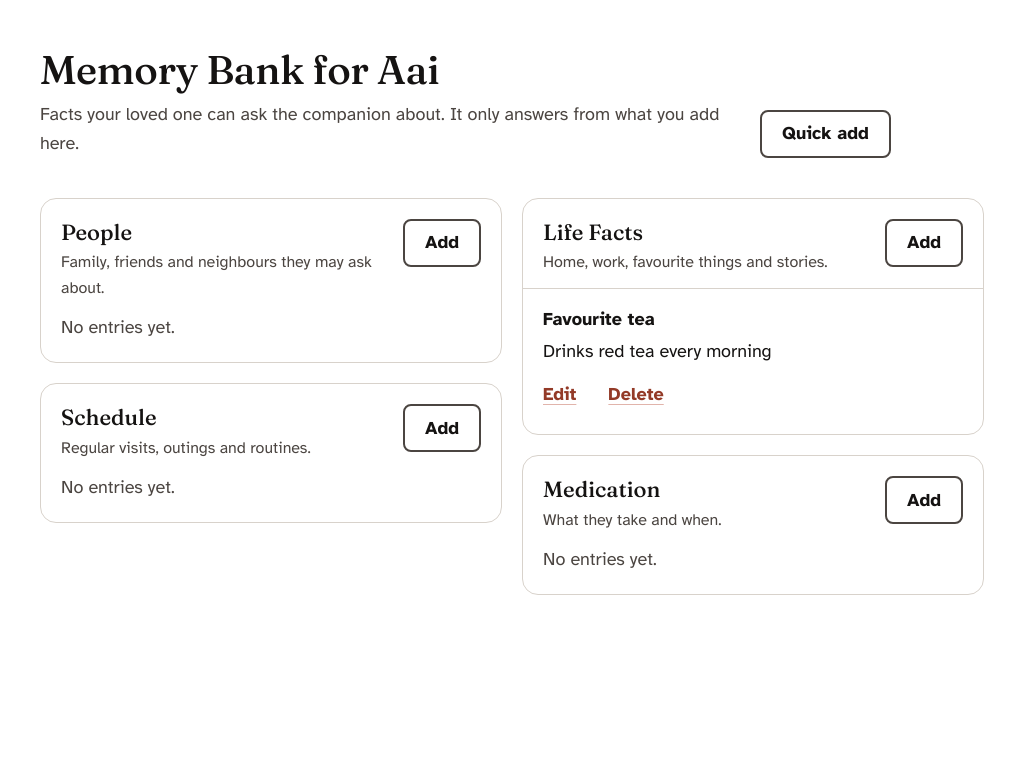
Scenario: Memory Bank editor › caregiver can edit an existing entry
Click the button with aria-label "edit favourite tea". click: click(566, 394)
box: [543,370,588,418]
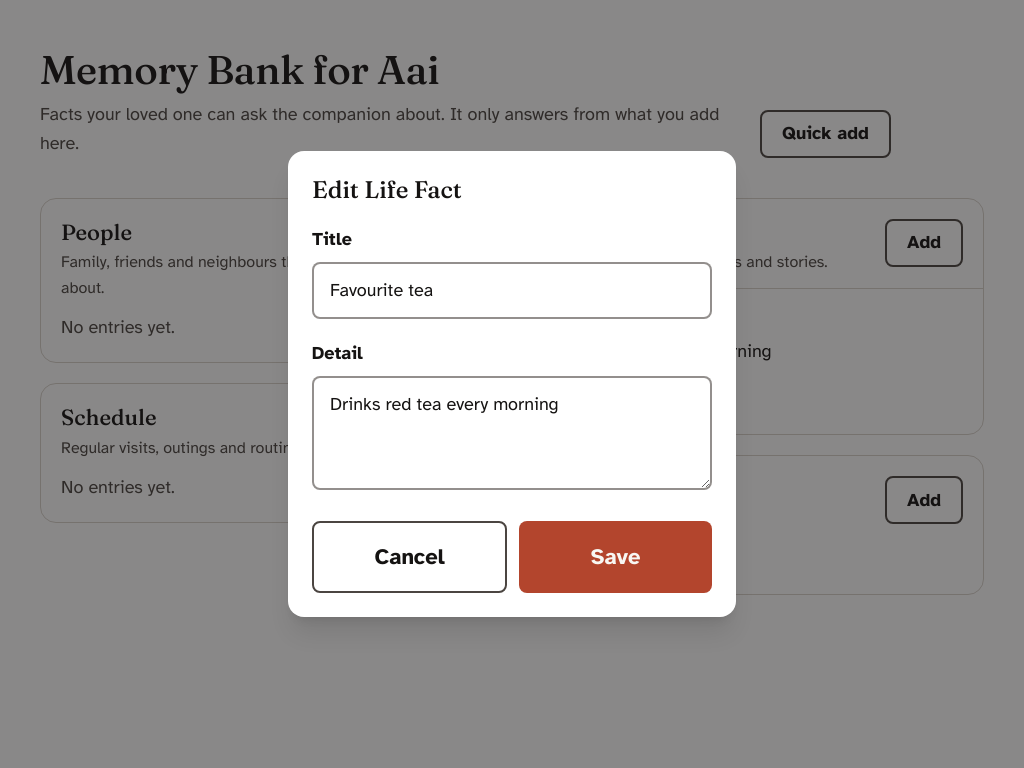
Replace the text in the text box labelled "Detail" with "Drinks green tea every morning". click: (512, 433)
box: [312,376,712,490]
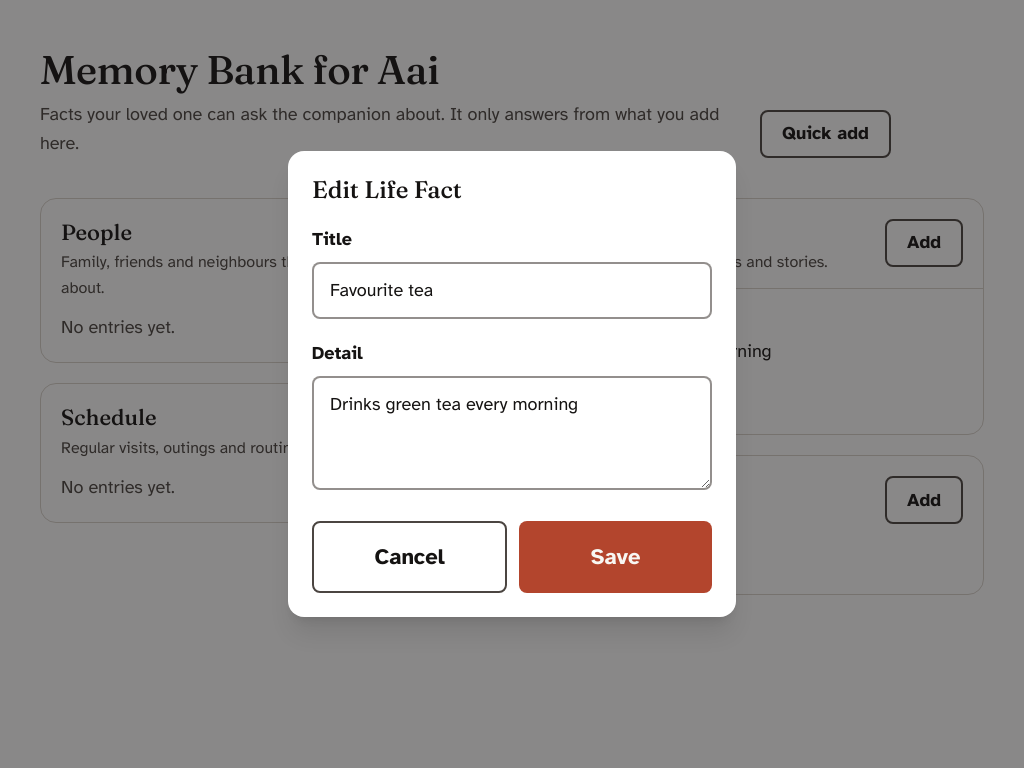
Click the button "Save". click: click(616, 557)
box: [519,521,712,593]
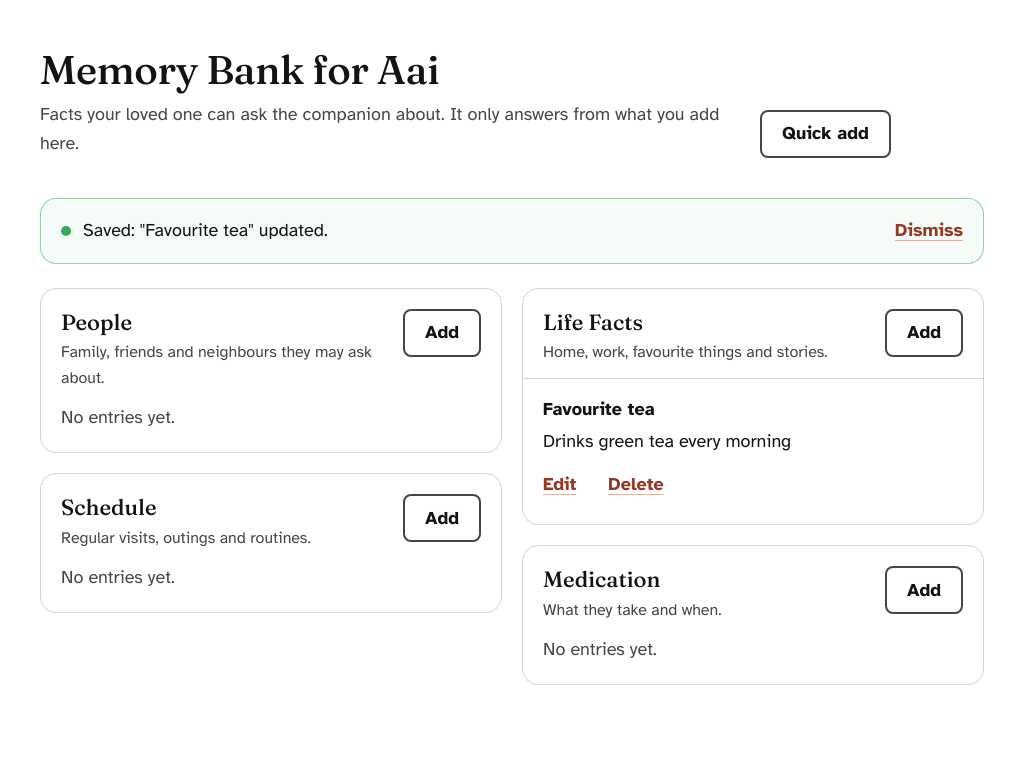
Result: the text "Drinks green tea every morning" is shown at [543,430,791,452]
